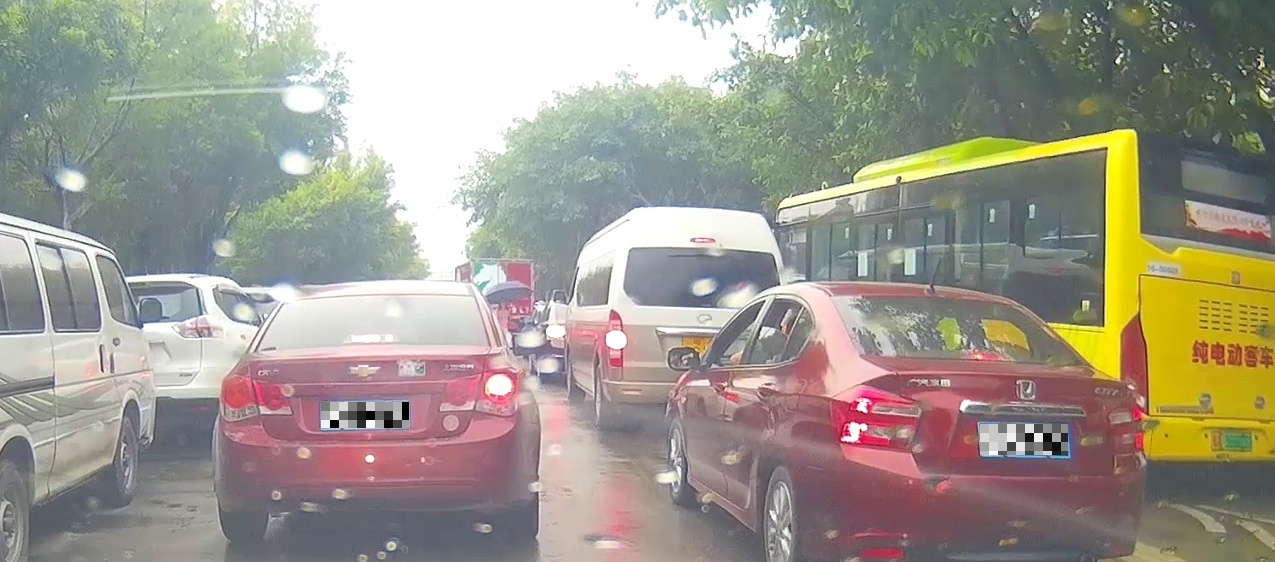L_light: (829, 384, 921, 449), (217, 373, 293, 422)
R_light: (438, 364, 522, 416), (1108, 391, 1145, 453)
T_light: (343, 333, 396, 343), (963, 352, 1002, 359)
day-brake: (819, 287, 1147, 562)
day-right: (213, 282, 530, 540)
plate_1: (321, 402, 409, 428)
plate_2: (980, 424, 1068, 455)
